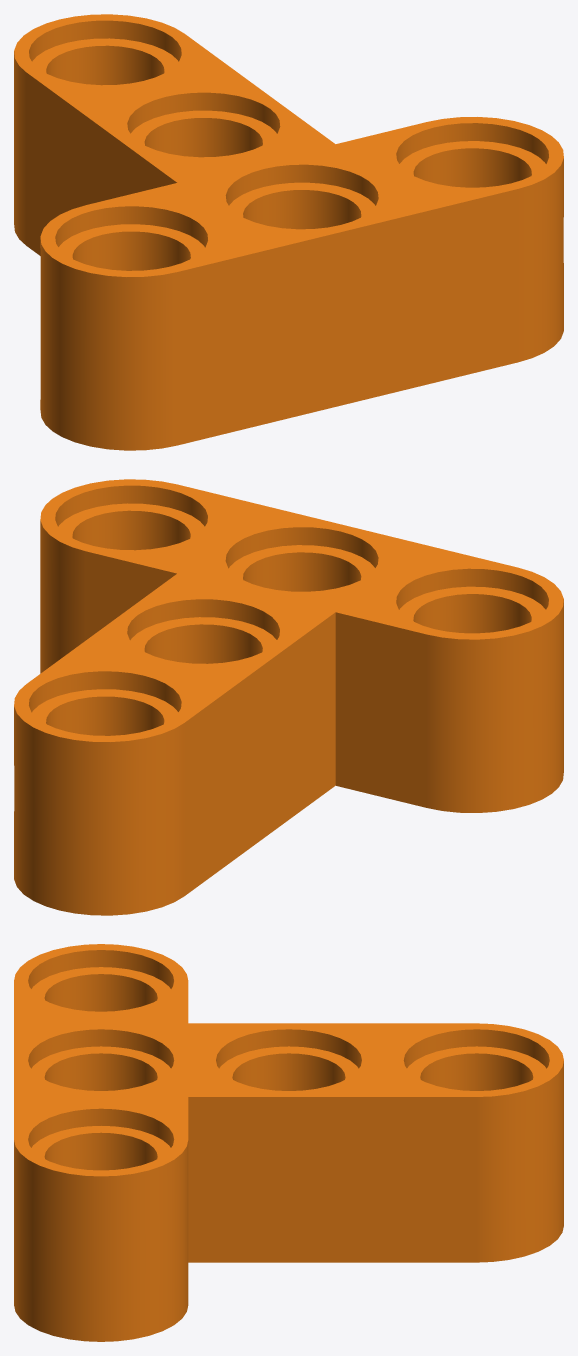
File: 3x3_T_Beam.glb
The picture shows the model from 3 angles, top to bottom: view 1: azimuth 30°, elevation 25°; view 2: azimuth 150°, elevation 25°; view 3: azimuth 270°, elevation 25°; orthographic projection. The views are drawn at different scales.
Parts seen in each view (by area): view 1: Body1.011; view 2: Body1.011; view 3: Body1.011.
Boxes of the visible parts, x1,y1,x2,y2 form: Body1.011: (14, 14, 563, 450); Body1.011: (14, 479, 563, 915); Body1.011: (14, 944, 563, 1341).
Size of the model in its own units: 23.34 by 7.75 by 23.34.
